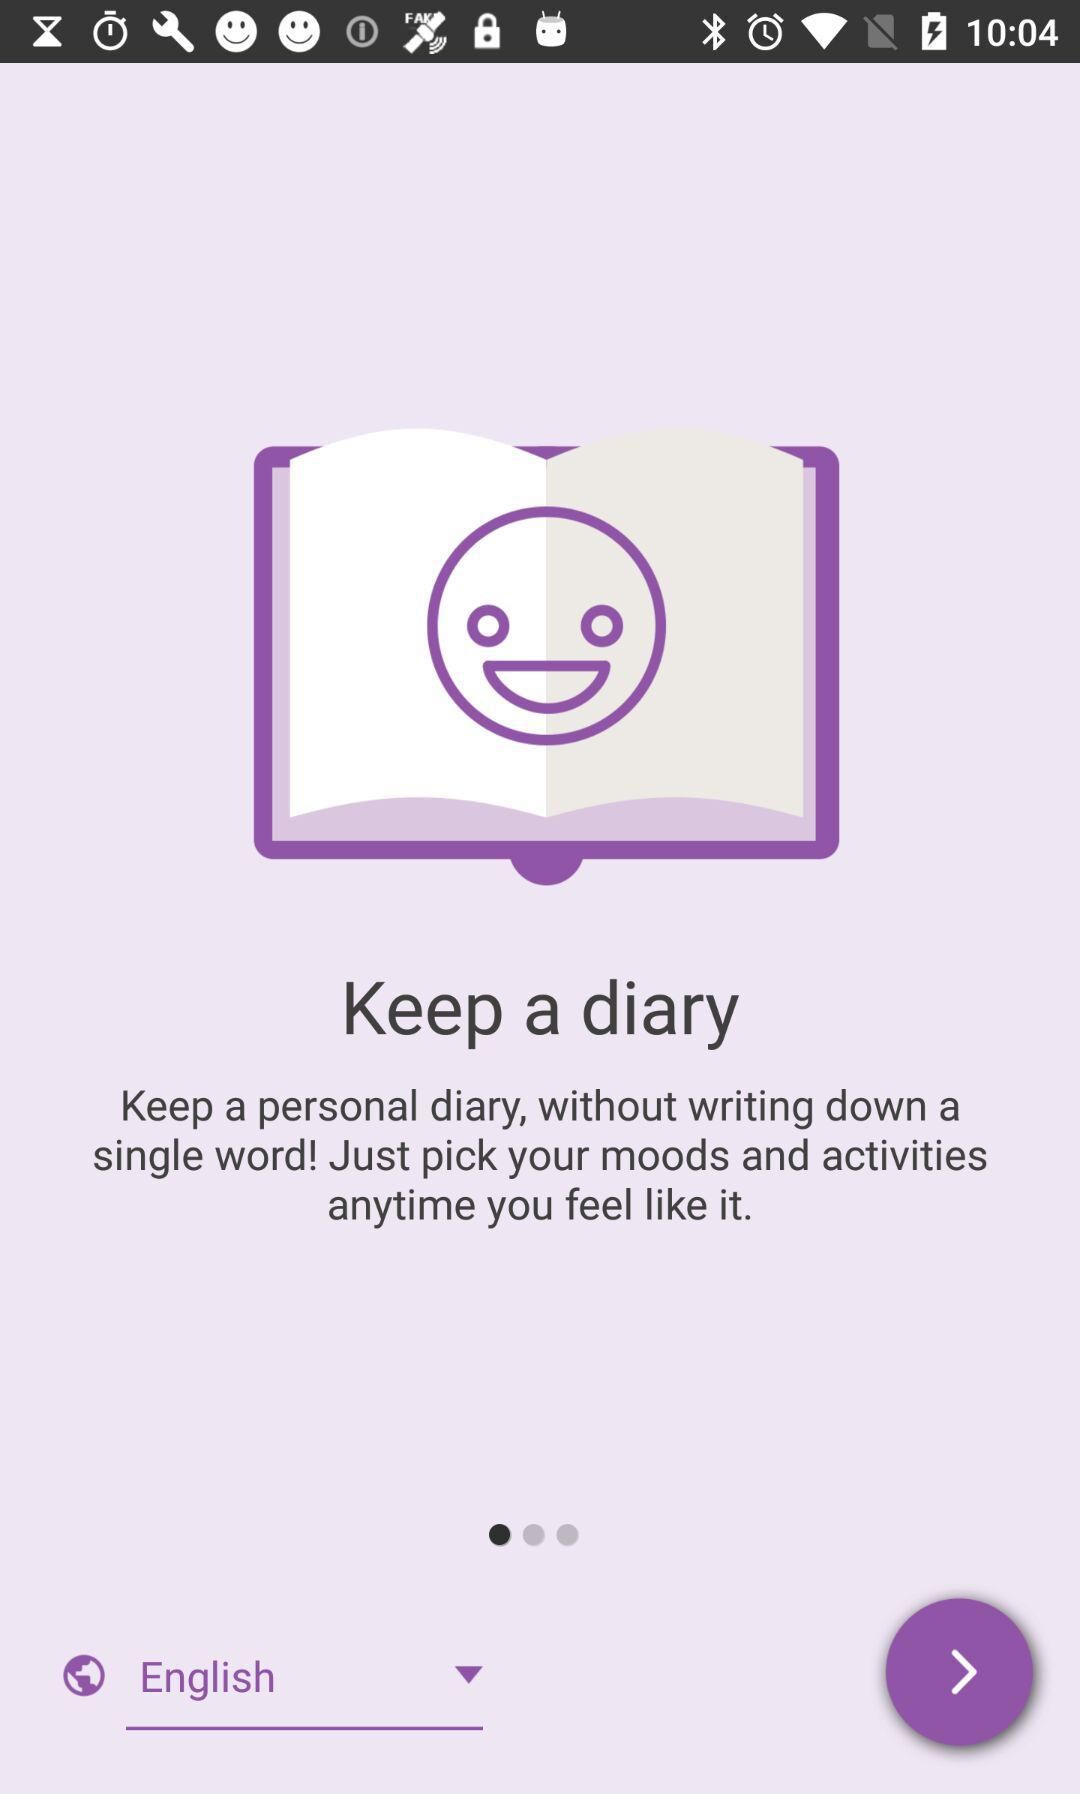Icon: (885, 1597, 1035, 1749)
Image: (250, 424, 844, 889), (63, 1654, 108, 1697)
PageIndicator: (488, 1524, 582, 1549)
Spinner: (126, 1659, 484, 1731)
Text: (91, 1085, 992, 1233), (343, 975, 740, 1055)
UpperTaskBar: (1, 1, 1080, 64)
